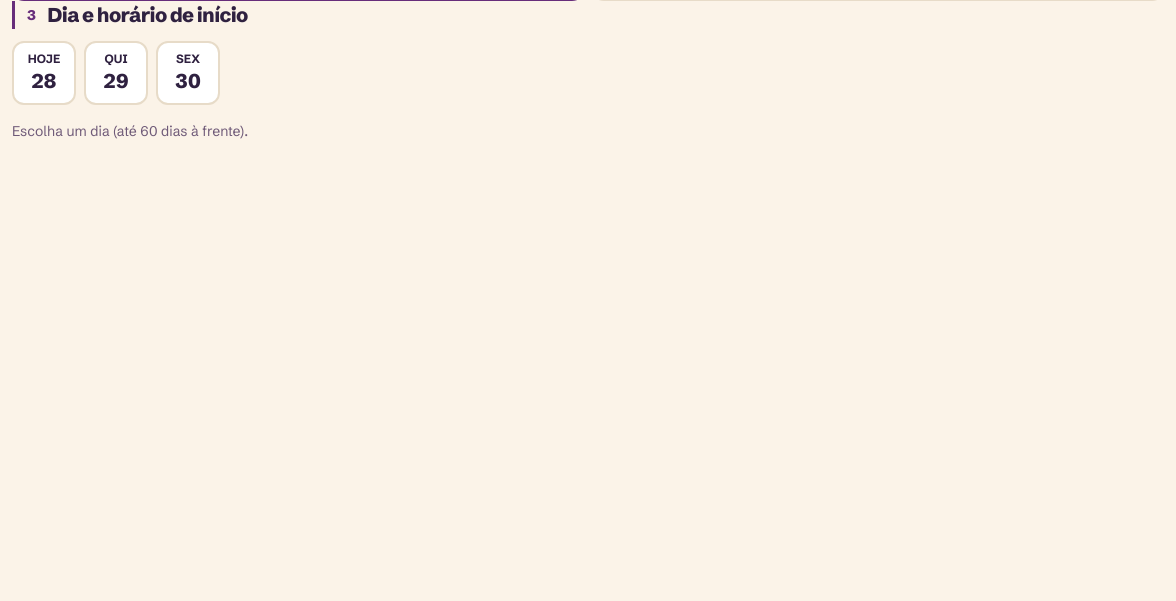
Test: CartFlow: um logo após o outro › escolhe o dia, vê os encaixes, escolhe um e preenche os dados
Click the button with aria-label "Dia 29/10": x=116, y=73 [84,41,148,105]
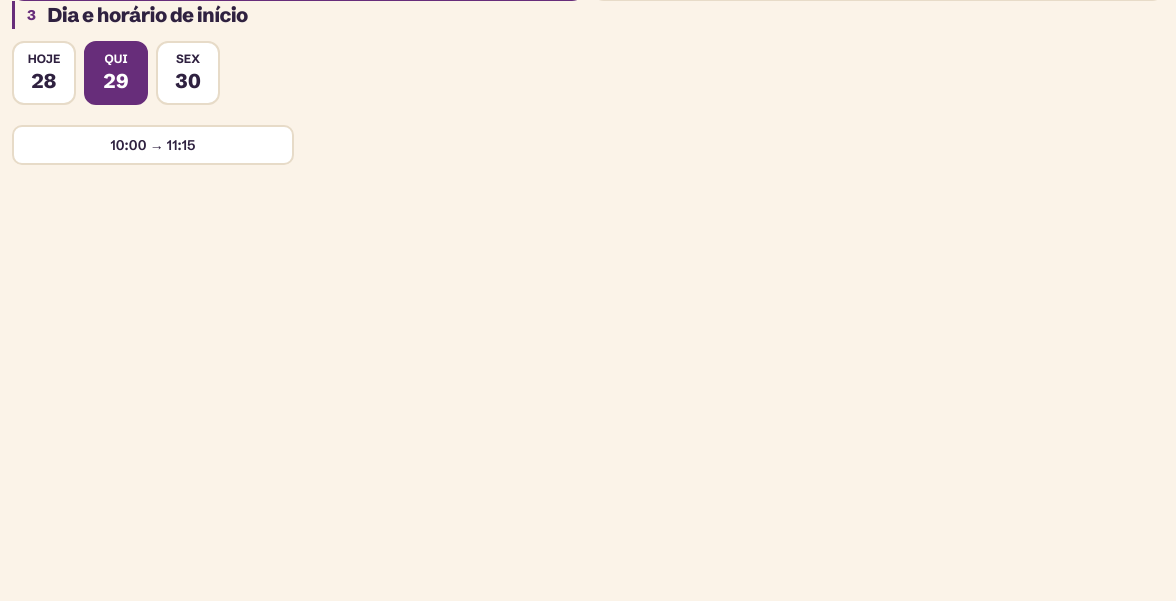
Now the button named "Começar às 10:00" reads "10:00 → 11:15"
Click the button named "Começar às 10:00": x=153, y=145 [12,125,294,165]
(page scrolled)
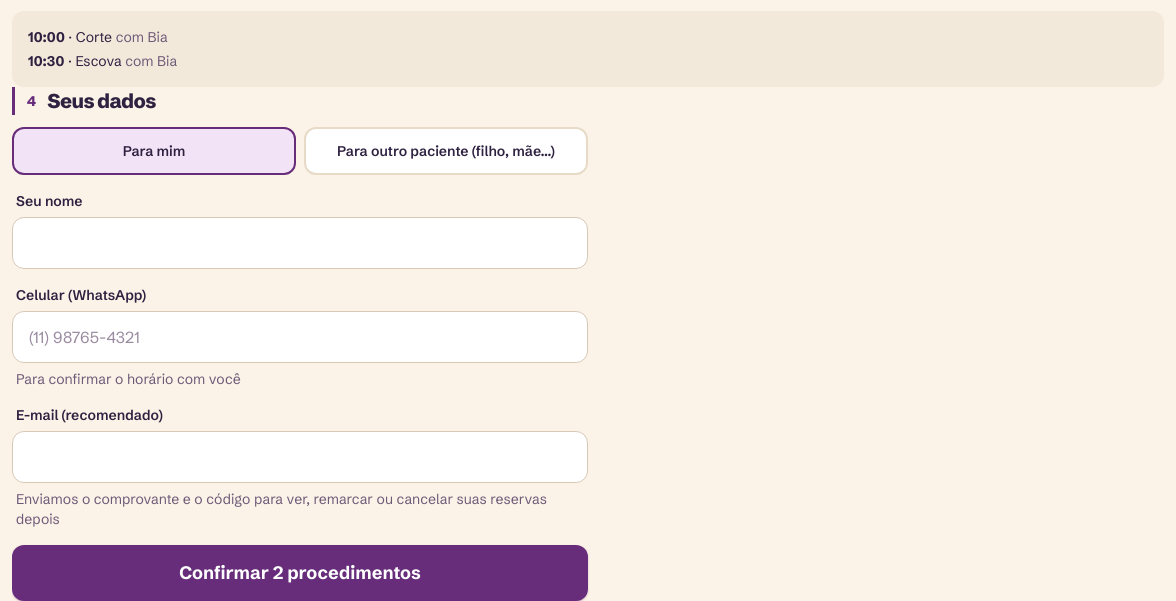
Now the list item "10:00 · Corte com Bia" is shown, box [28,28,168,46]
Now the text "com Bia" is shown 2 times, box [116,28,168,46]; [125,52,177,70]
Now the heading "4 Seus dados" is shown, box [12,87,1164,115]
